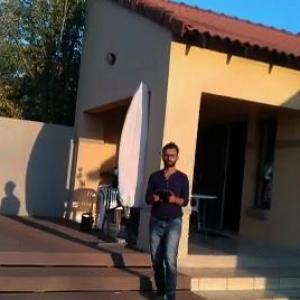follow: (140, 138, 192, 299)
